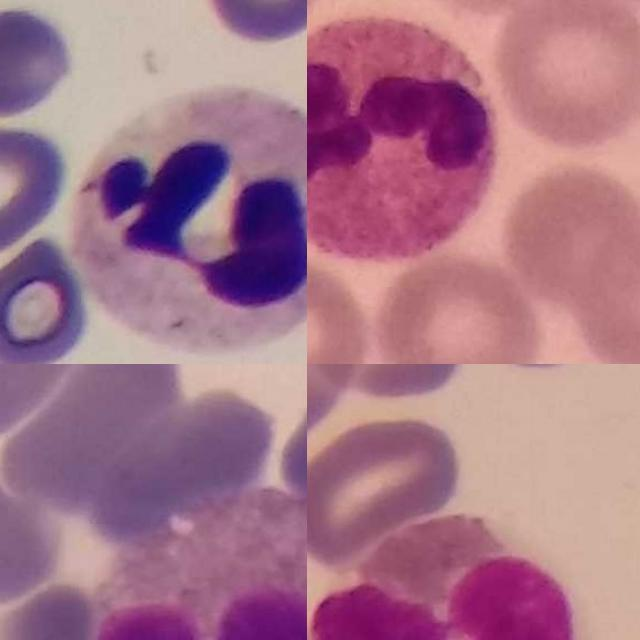Eosinophil: (315, 516, 597, 640), (99, 481, 307, 640)
Neutrophil: (69, 87, 307, 354), (307, 13, 497, 264)
